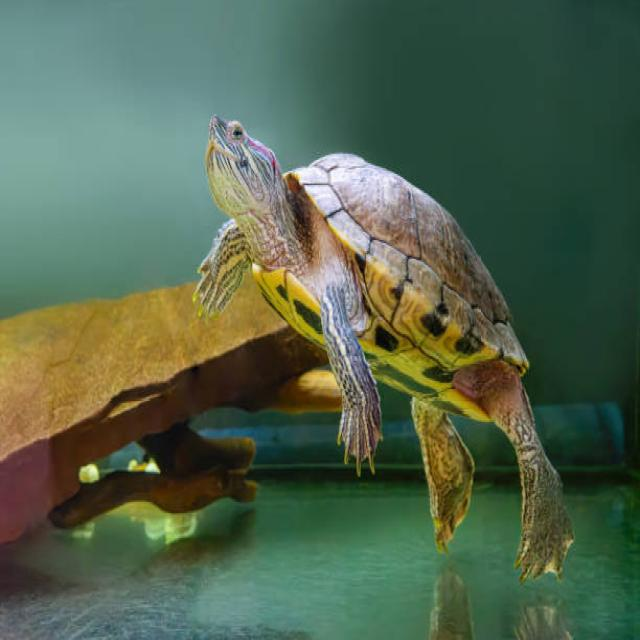terrapin: (294, 139, 538, 370), (478, 381, 580, 594), (309, 281, 388, 479), (201, 98, 283, 262), (403, 383, 473, 566), (191, 219, 251, 330)
